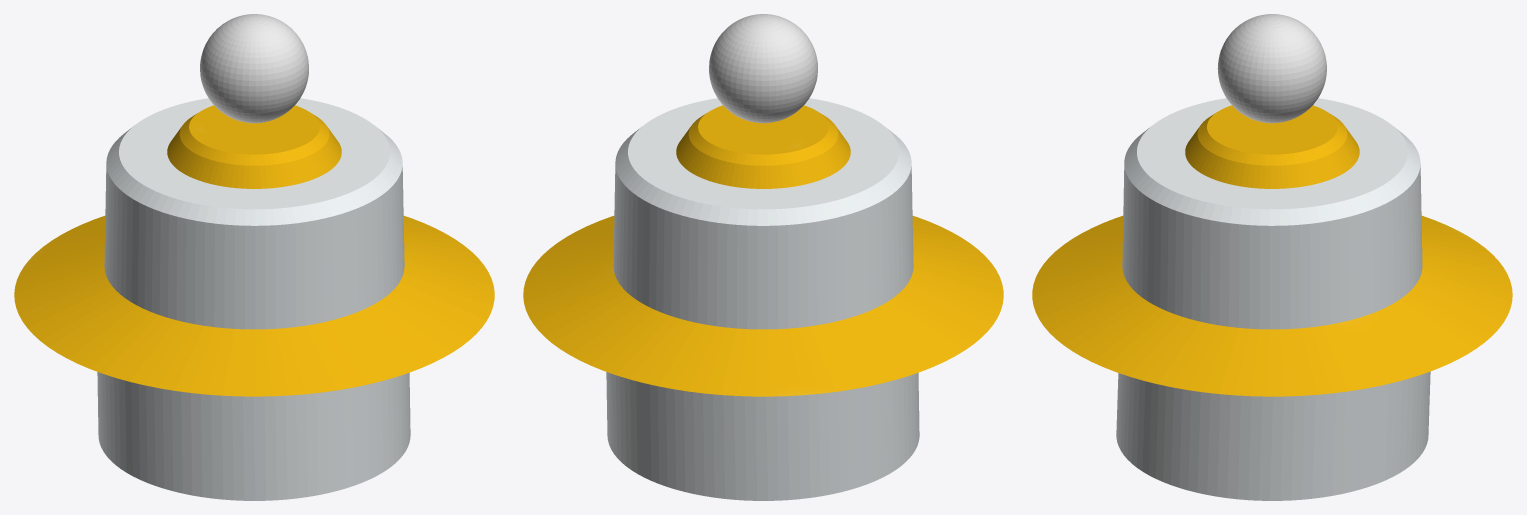
The model's file is bumper.fbx.
The picture shows the model from 3 angles, left to right: view 1: azimuth 30°, elevation 25°; view 2: azimuth 150°, elevation 25°; view 3: azimuth 270°, elevation 25°; orthographic projection.
Parts seen in each view (by area): view 1: BumperBase, BumperBall; view 2: BumperBase, BumperBall; view 3: BumperBase, BumperBall.
Boxes of the visible parts, left/top/right/bottom form: BumperBase: left=14, top=98, right=494, bottom=500; BumperBall: left=200, top=14, right=308, bottom=123; BumperBase: left=523, top=98, right=1003, bottom=500; BumperBall: left=709, top=14, right=817, bottom=123; BumperBase: left=1032, top=98, right=1512, bottom=500; BumperBall: left=1217, top=14, right=1326, bottom=123.
Size of the model in its own units: 308 by 294 by 308.
Materials: 1 (1 with a texture image).
